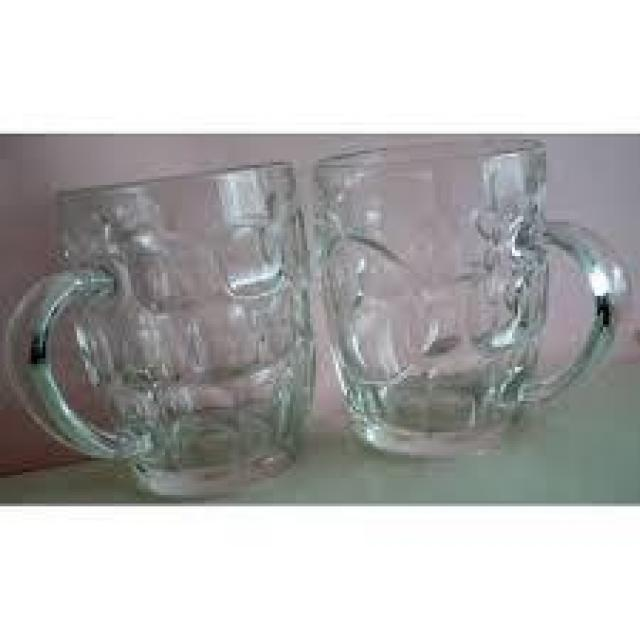glass: (0, 151, 327, 498)
